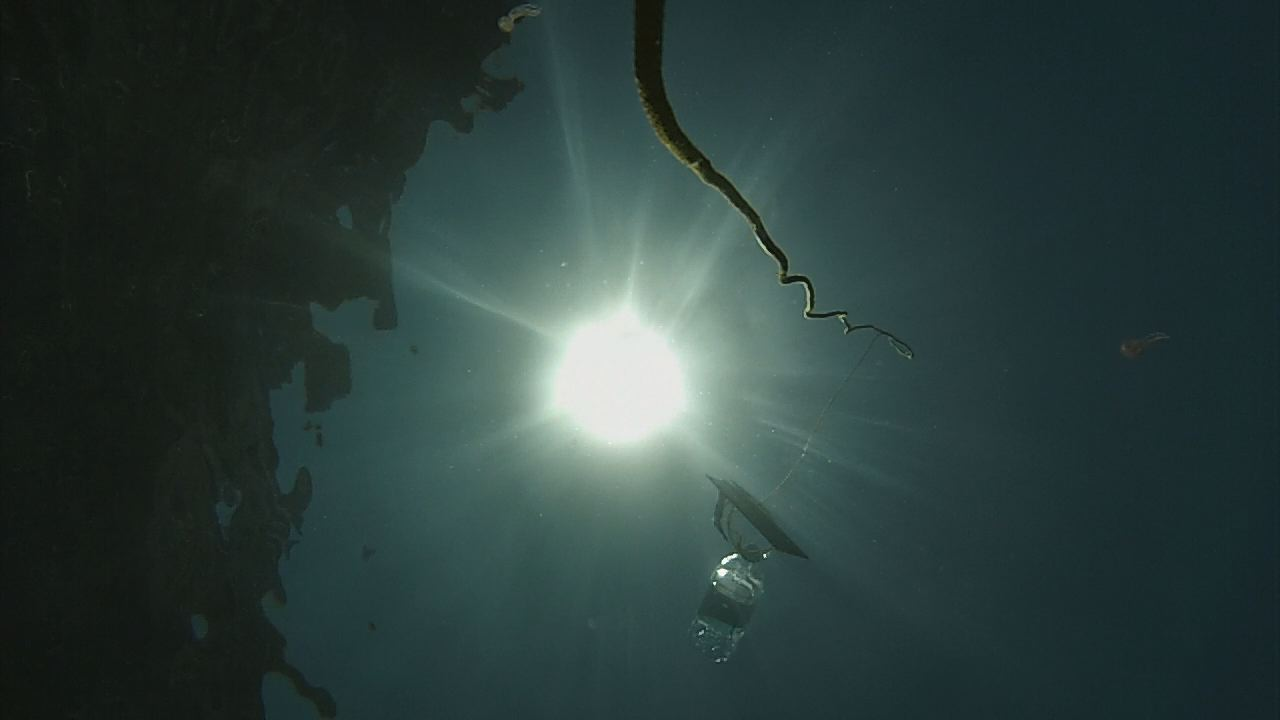pelagia: (1115, 327, 1178, 362), (495, 1, 552, 38)
